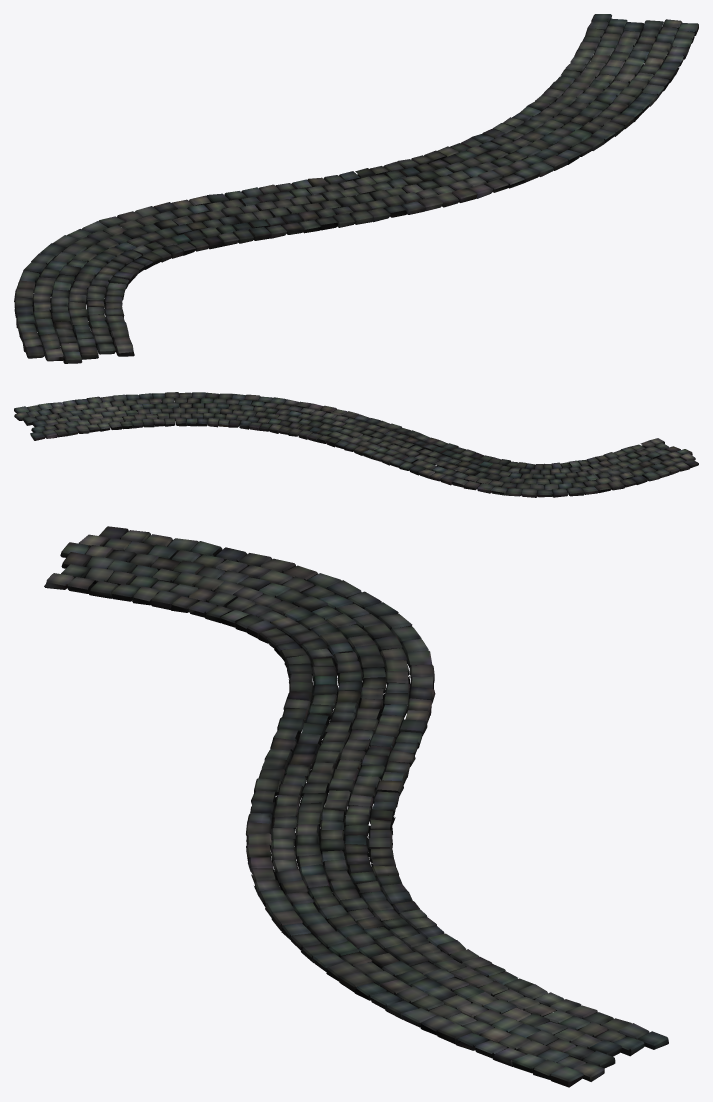
The model's file is Path (1).fbx.
3 renders of one model, top to bottom at view 1: azimuth 30°, elevation 25°; view 2: azimuth 150°, elevation 25°; view 3: azimuth 270°, elevation 25°, orthographic. The views are drawn at different scales.
Visible parts, largest first — view 1: Cube; view 2: Cube; view 3: Cube.
Part boxes in pixels (x1,y1,x2,y2): Cube: (14,14,698,363); Cube: (14,392,698,497); Cube: (44,526,668,1087).
Size of the model in its own units: 10830 by 82.56 by 5149.
Materials: 1 (1 with a texture image).
